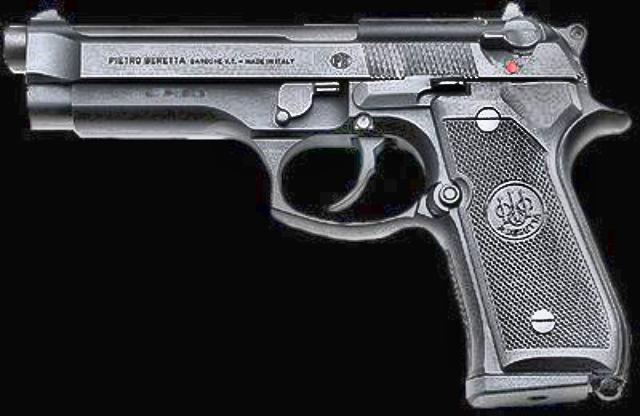pistol: (0, 0, 628, 402)
